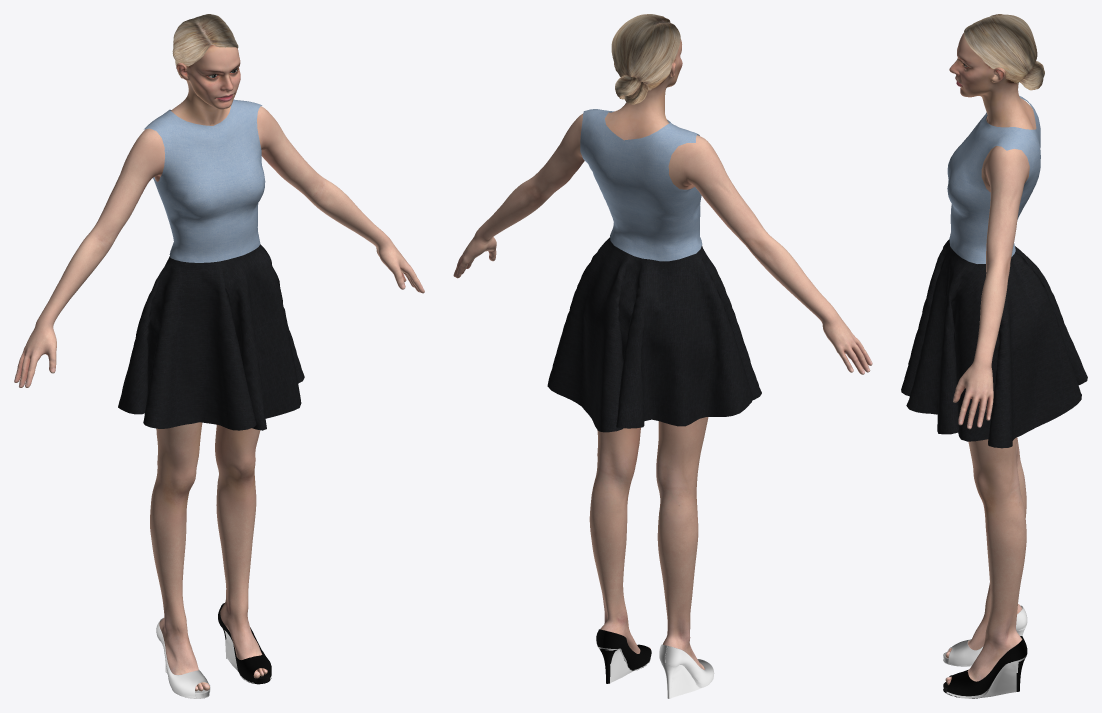
The model's file is dress2.fbx.
3 renders of one model, left to right at view 1: azimuth 30°, elevation 25°; view 2: azimuth 150°, elevation 25°; view 3: azimuth 270°, elevation 25°, orthographic. The views are drawn at different scales.
Visible parts, largest first — view 1: dress2, body, hair_Shape, shoes_l_Shape, shoes_r_Shape; view 2: dress2, body, hair_Shape, shoes_r_Shape, shoes_l_Shape; view 3: dress2, body, hair_Shape, shoes_l_Shape, shoes_r_Shape.
Part boxes in pixels (x1,y1,x2,y2): dress2: (118,99,304,430); body: (14,45,424,691); hair_Shape: (172,14,238,78); shoes_l_Shape: (218,603,271,684); shoes_r_Shape: (156,617,210,698); dress2: (547,109,761,432); body: (453,39,872,669); hair_Shape: (611,14,680,104); shoes_r_Shape: (659,644,714,698); shoes_l_Shape: (596,629,651,683); dress2: (901,96,1087,448); body: (945,33,1036,684); hair_Shape: (964,14,1044,90); shoes_l_Shape: (943,636,1027,698); shoes_r_Shape: (943,605,1027,666).
Size of the model in its own units: 1212 by 1879 by 482.
